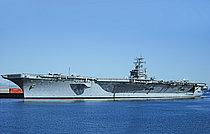MIL_Ship: (1, 56, 206, 100)
